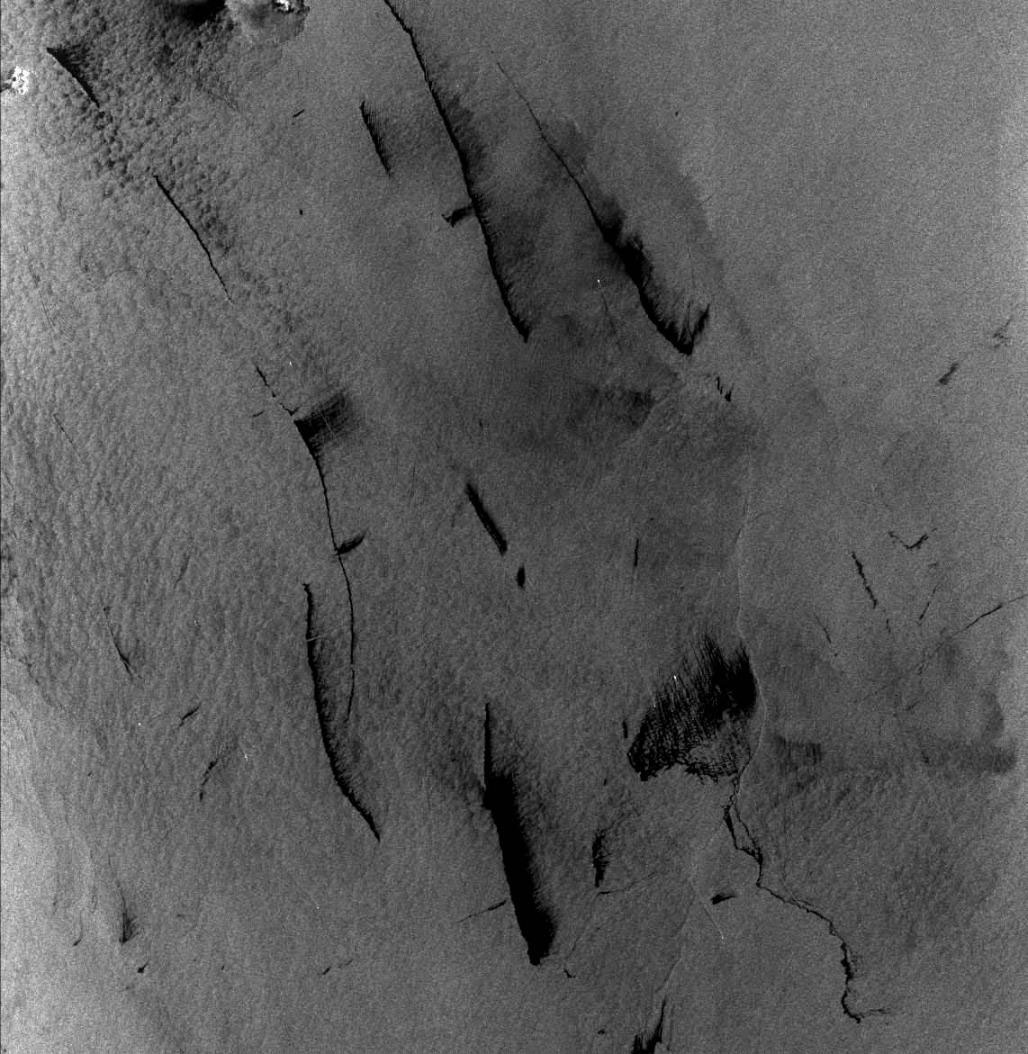anomaly: (441, 730, 735, 975)
